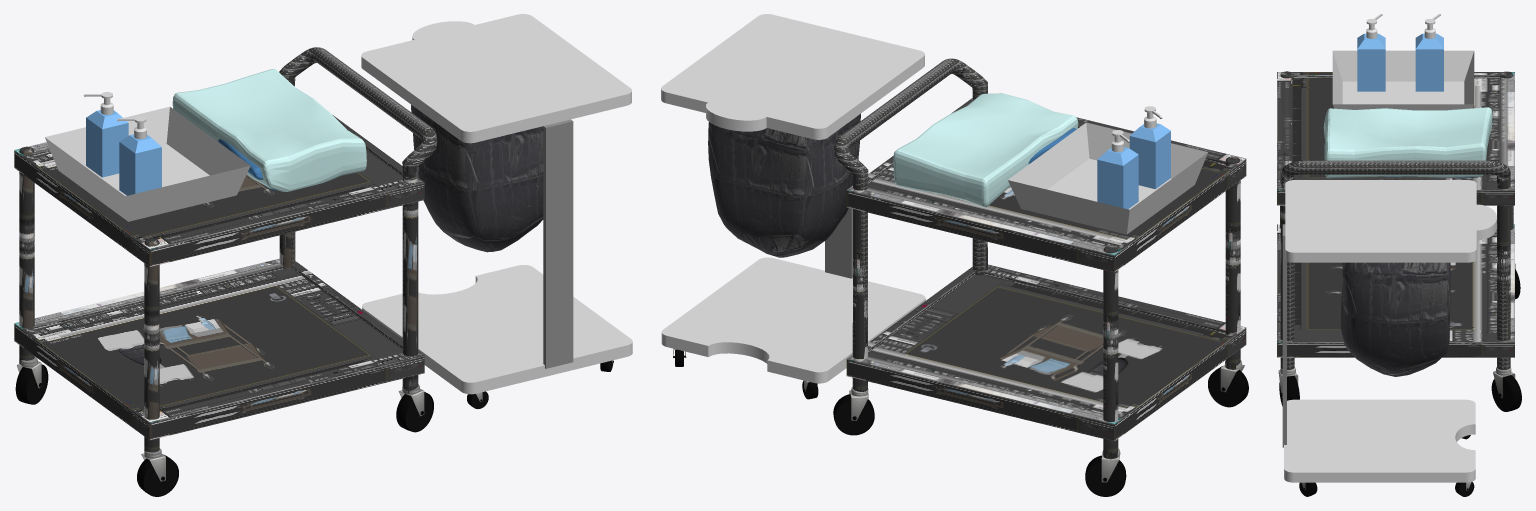
File: roomCart.FBX
3 renders of one model, left to right at view 1: azimuth 30°, elevation 25°; view 2: azimuth 150°, elevation 25°; view 3: azimuth 270°, elevation 25°, orthographic. The views are drawn at different scales.
Parts seen in each view (by area): view 1: Box002, Rectangle002; view 2: Box002, Rectangle002; view 3: Box002, Rectangle002.
Boxes of the visible parts, <box> form: Box002: <box>14,47,437,496</box>; Rectangle002: <box>361,14,632,408</box>; Box002: <box>833,58,1248,496</box>; Rectangle002: <box>661,14,925,399</box>; Box002: <box>1277,14,1521,411</box>; Rectangle002: <box>1282,180,1496,496</box>.
Bounding box in the file's own units: 109 × 69.99 × 53.27.
Materials: 11 (4 with a texture image).
